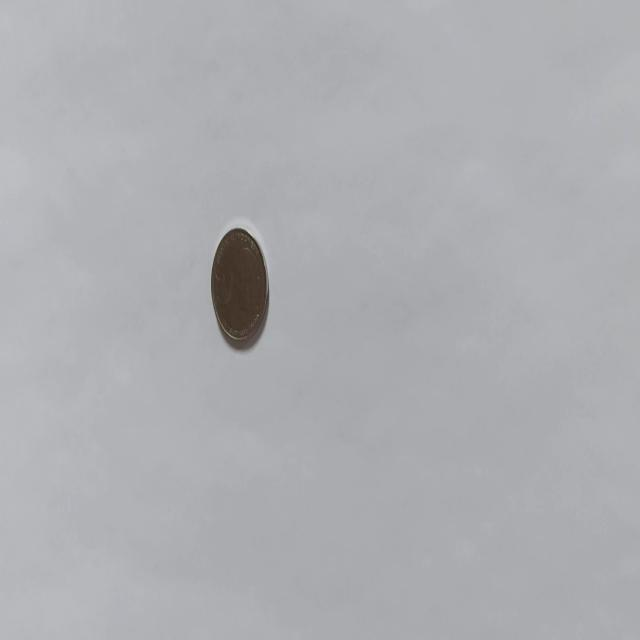seribu rupiah koin: (210, 224, 270, 345)
